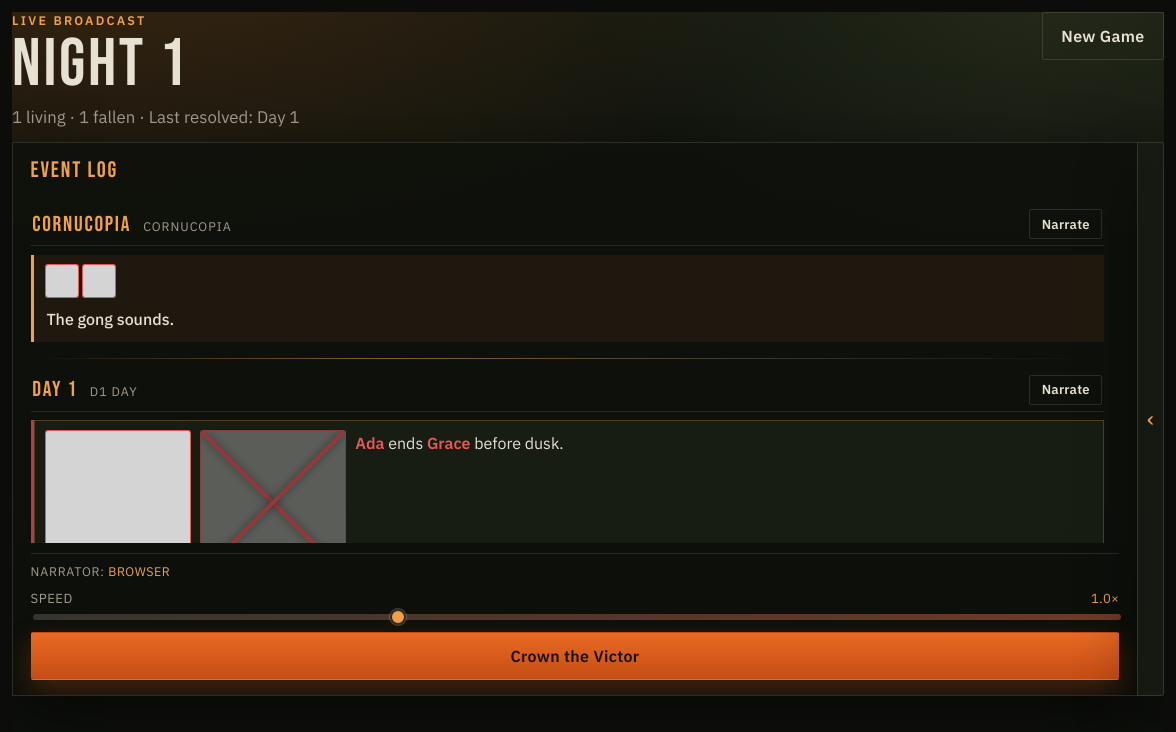
Test: Arena › narrates a phase only when its Narrate button is clicked
Click the button titled "narrate day 1" in the row of "D1 Day".
click(1066, 390)  # box [1030,375,1102,405]
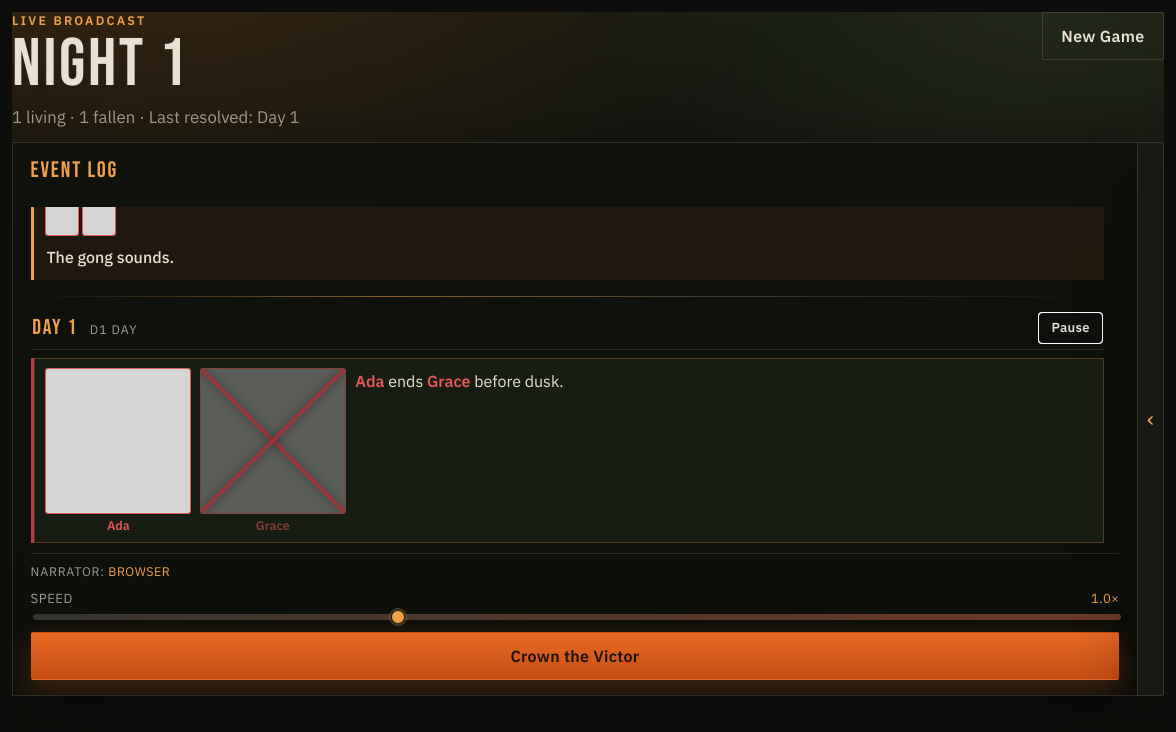
Expected: the button titled "pause narration for day 1" is shown
Click the button titled "pause narration for day 1".
click(1071, 328)  # box [1039,313,1102,343]
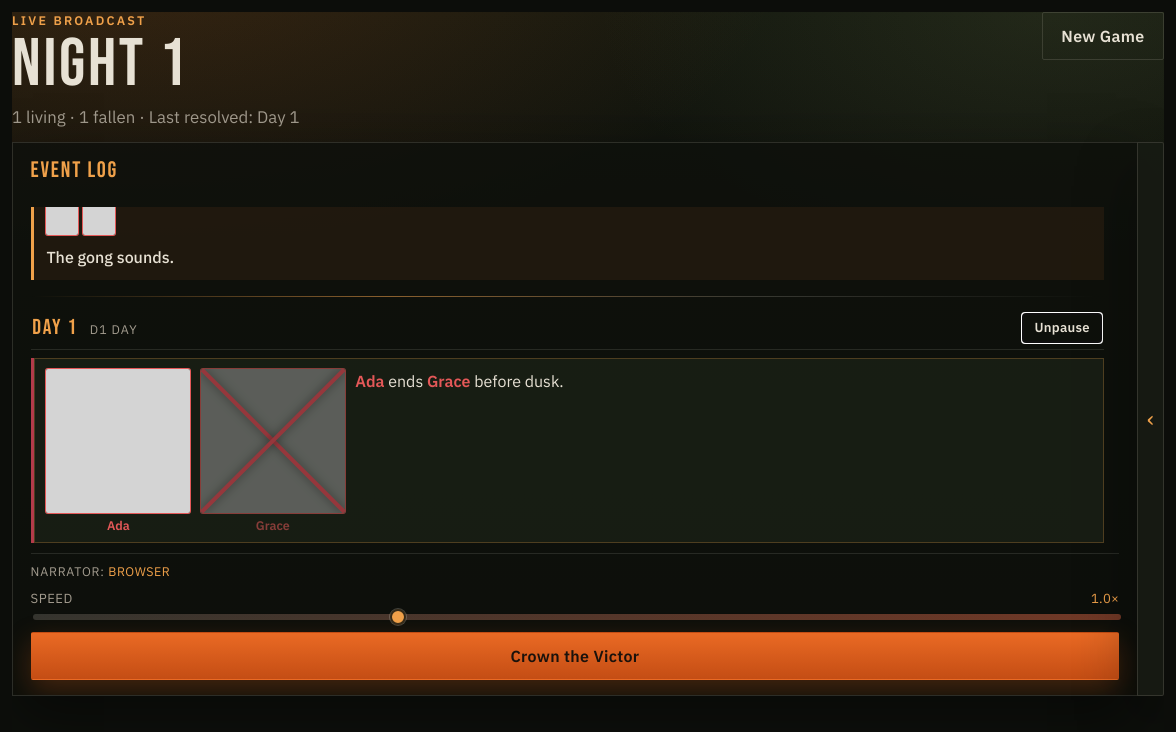
Expected: the button titled "resume narration for day 1" is shown
Click the button titled "resume narration for day 1".
click(1062, 328)  # box [1022,313,1102,343]
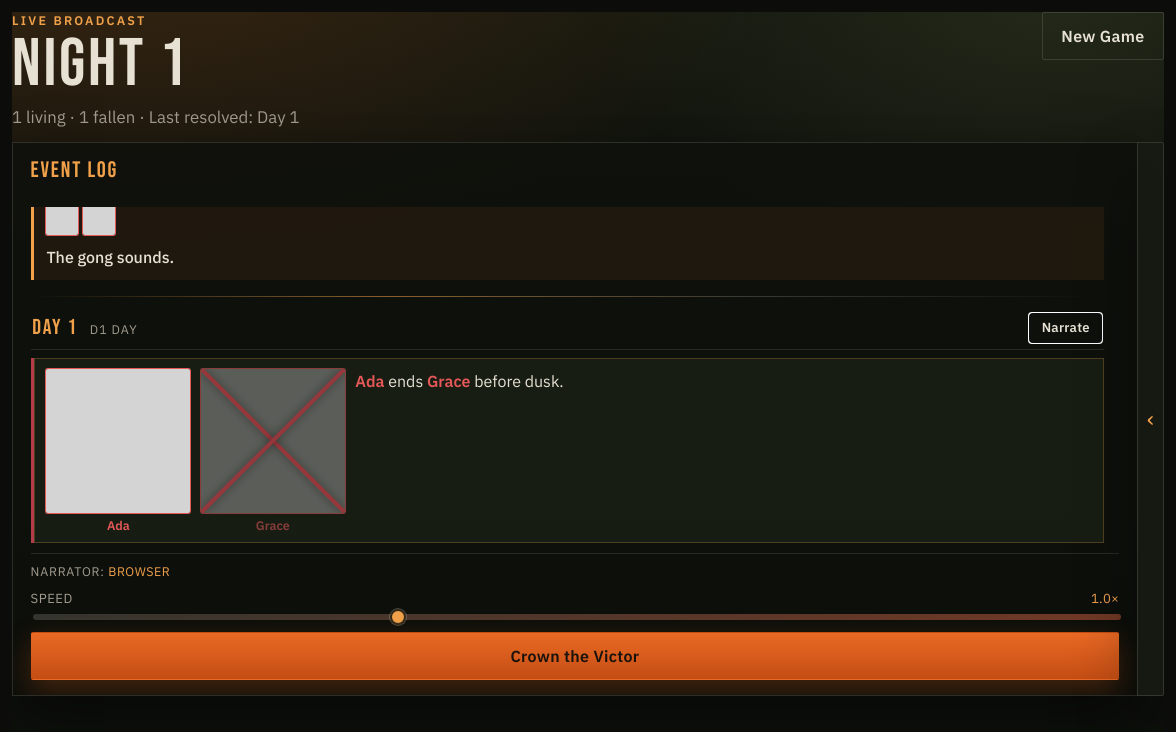
Expected: the button titled "narrate day 1" is shown, [1030,313,1102,343]
